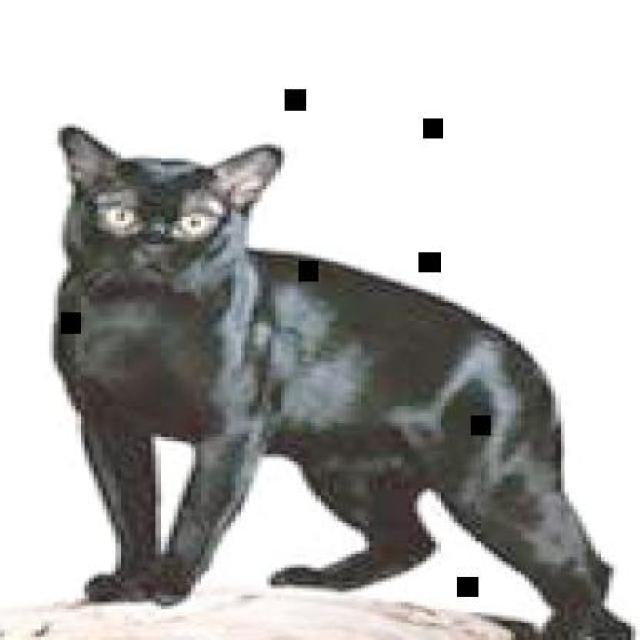cat: (40, 124, 635, 636)
